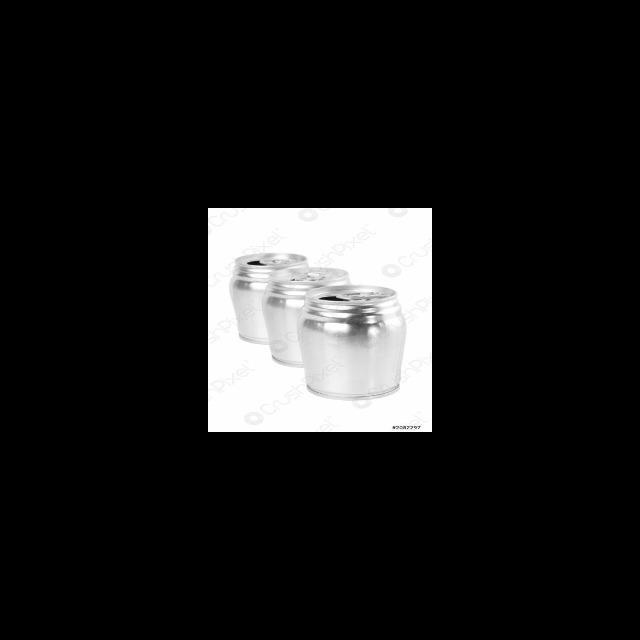metal: (298, 280, 406, 406), (263, 263, 353, 371), (227, 249, 307, 350)
